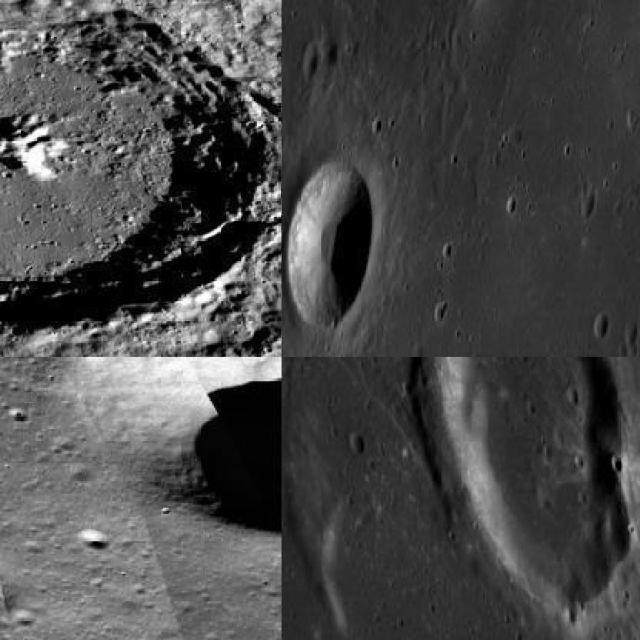crater: (0, 0, 262, 342), (431, 357, 629, 617), (69, 357, 280, 541), (285, 157, 372, 329)
